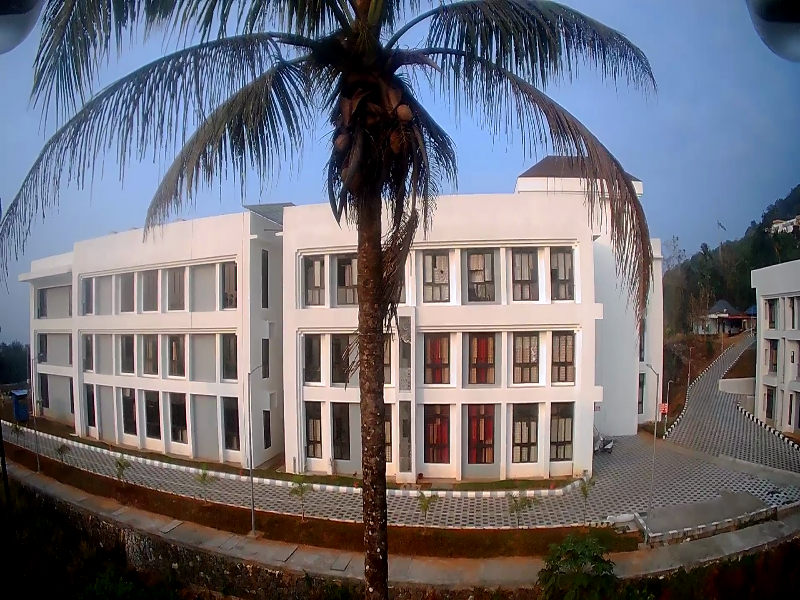coconut: (328, 130, 349, 151), (342, 171, 360, 187), (396, 106, 411, 122)
